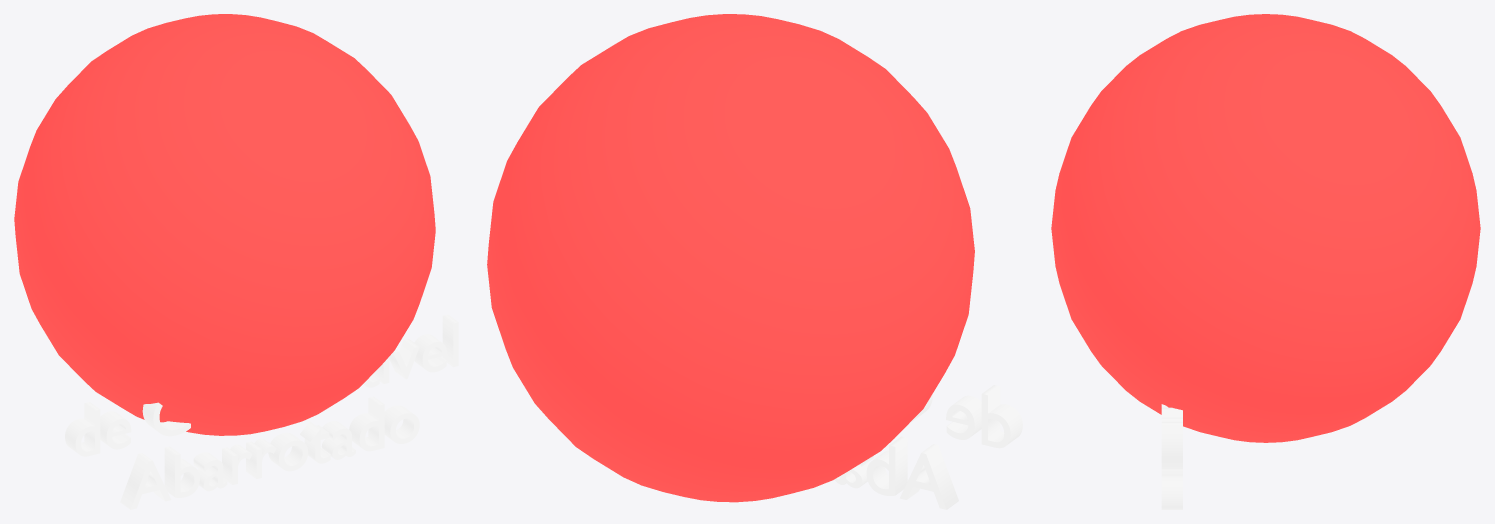
Rendered from filtro-de-combustivel-abarrotado.glb.
3 views of the same model, side by side, from view 1: azimuth 30°, elevation 25°; view 2: azimuth 150°, elevation 25°; view 3: azimuth 270°, elevation 25° (orthographic). The views are drawn at different scales.
Parts seen in each view (by area): view 1: Sphere.023, Text.024; view 2: Sphere.023, Text.024; view 3: Sphere.023, Text.024.
Boxes of the visible parts, box(x1,y1,x2,y2) form: Sphere.023: box(14, 14, 435, 435); Text.024: box(65, 314, 458, 509); Sphere.023: box(487, 14, 974, 502); Text.024: box(835, 385, 1022, 509); Sphere.023: box(1051, 14, 1480, 442); Text.024: box(1161, 404, 1182, 509).
Bounding box in the file's own units: 5.4 × 5.43 × 5.15.
